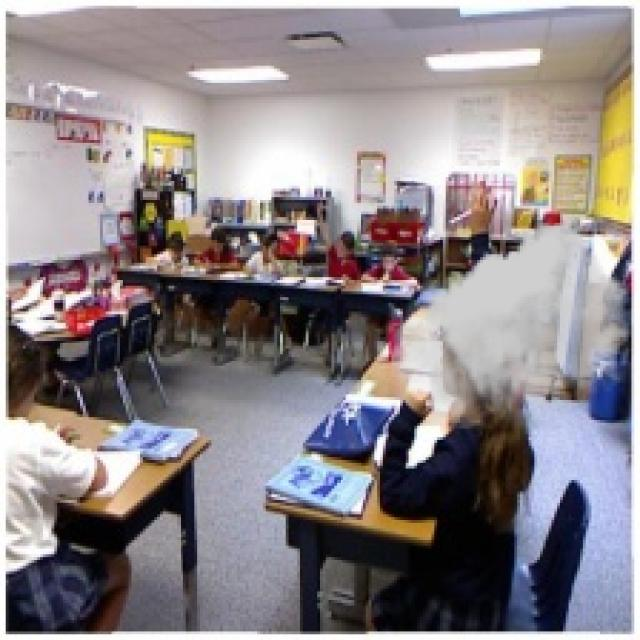smoke: (392, 223, 632, 428)
